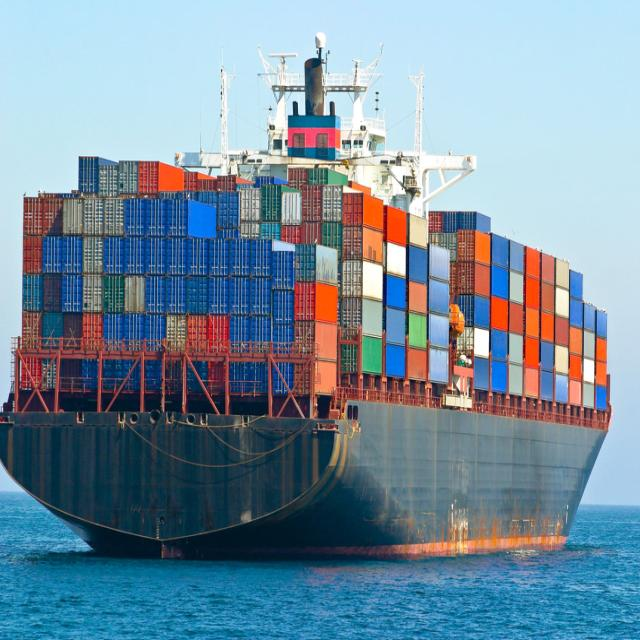cargoship: (7, 32, 609, 560)
